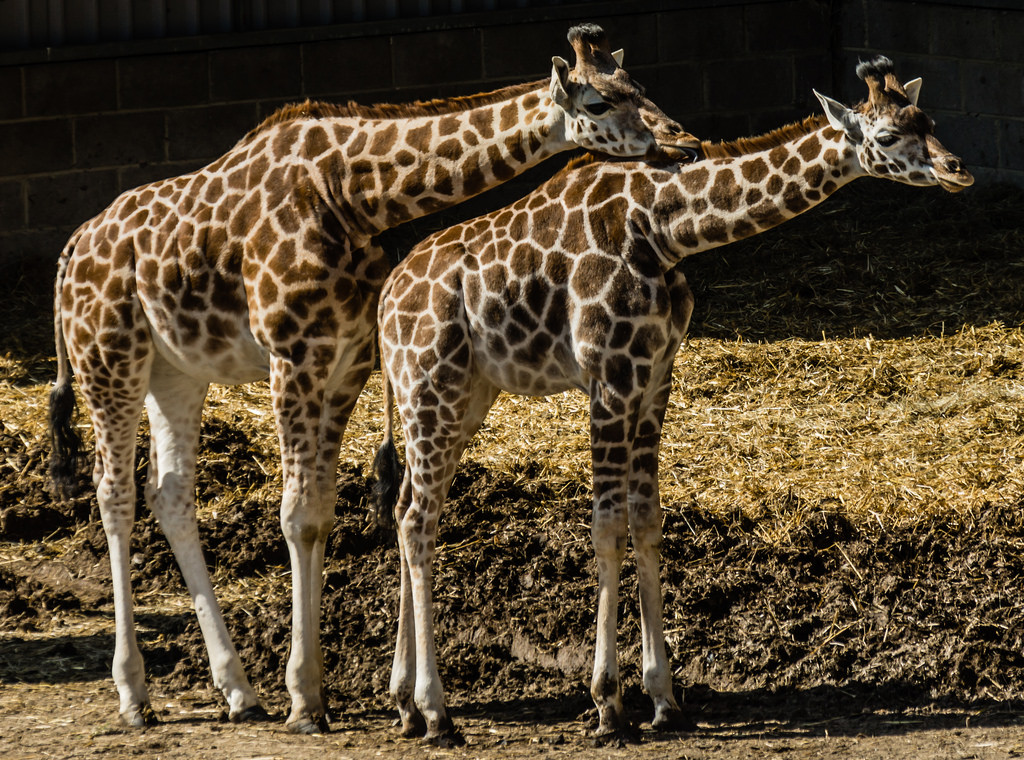giraffe: (59, 24, 673, 682), (370, 66, 970, 713)
